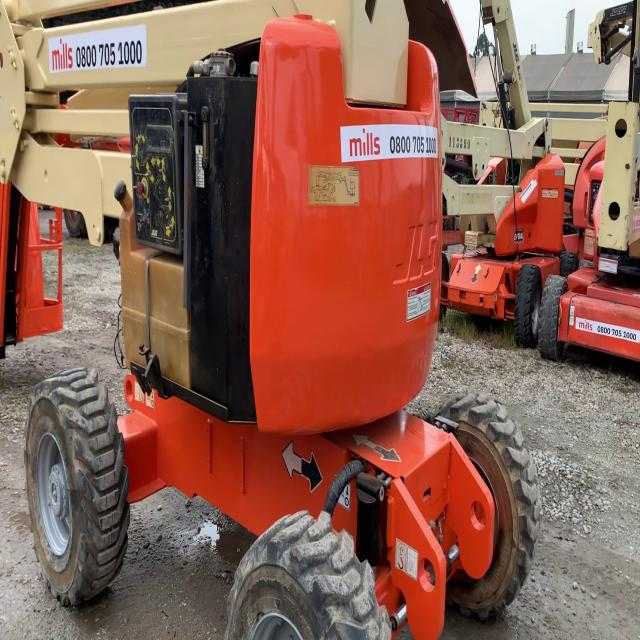Adesivo Longo: (46, 20, 148, 74), (338, 123, 439, 166), (575, 315, 640, 345)
